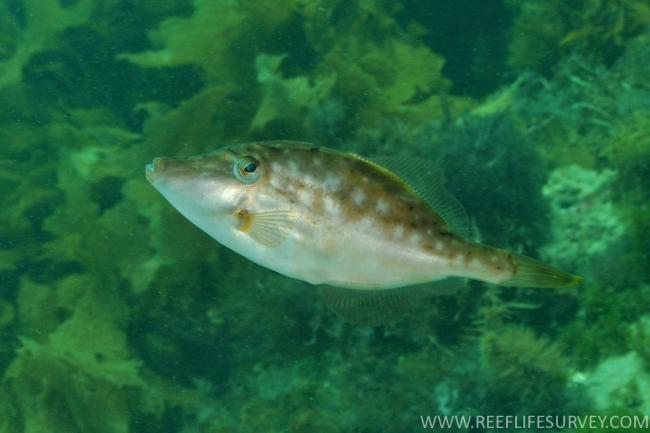fish: (146, 141, 583, 295)
